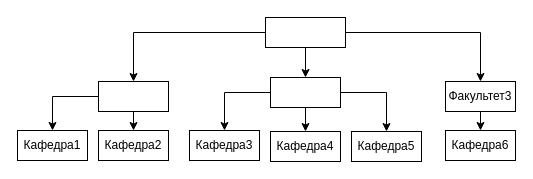
Image size: 533x179. Some labels were removed from this diagram. Here are the shapes that lost their labels. From the top down, the box of each, then its label:
(264, 16, 346, 48): Университет
(98, 80, 168, 112): Факультет1
(270, 76, 340, 108): Факультет2
